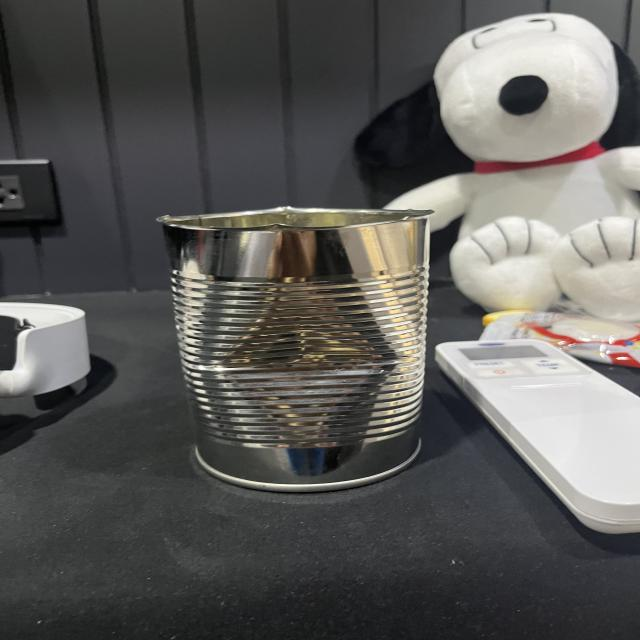metal: (168, 200, 435, 487)
